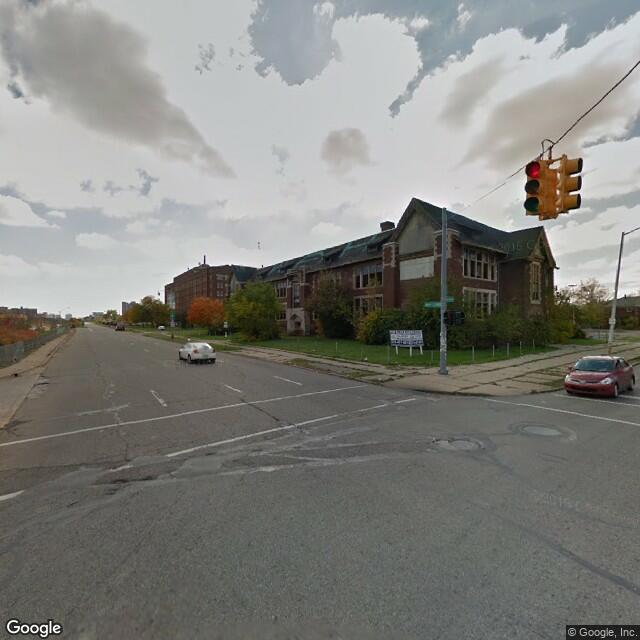litter: (11, 370, 18, 376), (363, 357, 367, 360), (315, 356, 317, 357)
